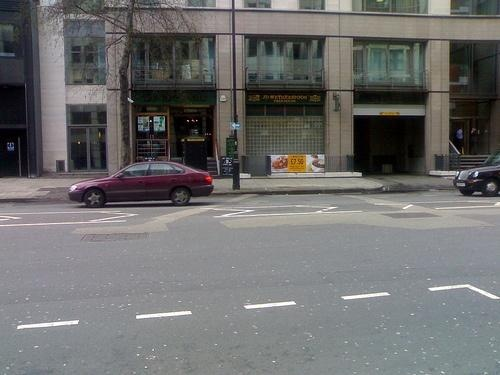car: (66, 158, 217, 210), (452, 149, 500, 199)
